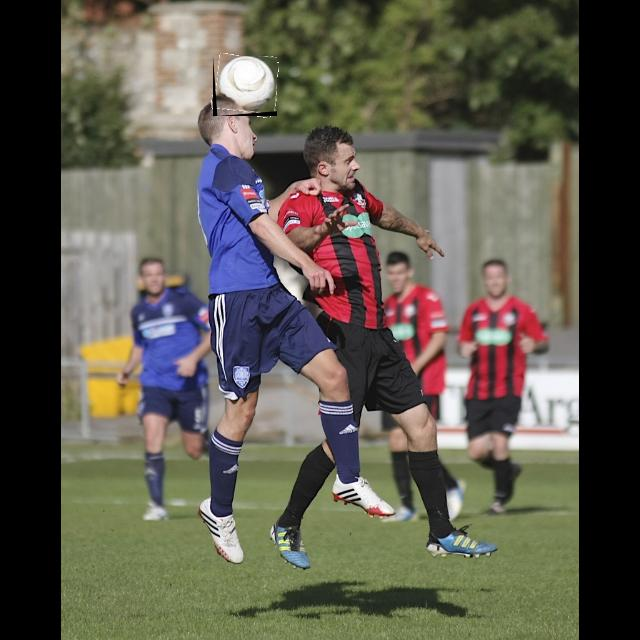Football: (213, 56, 277, 116)
